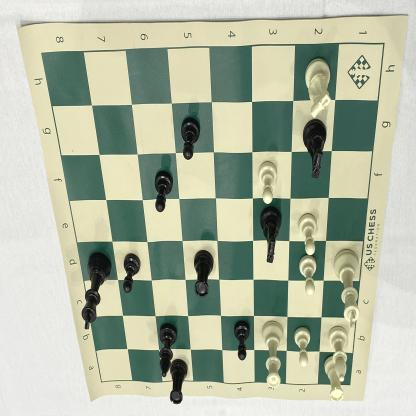black-bishop: (154, 320, 180, 378)
black-king: (78, 251, 114, 334)
black-knight: (299, 116, 330, 185), (256, 200, 284, 269)
black-pawn: (176, 113, 202, 166), (152, 166, 176, 218), (233, 315, 254, 363), (121, 250, 142, 298)
black-rook: (190, 245, 216, 302), (167, 356, 190, 410)
white-bishop: (326, 325, 352, 383)
white-king: (331, 246, 363, 332)
white-knight: (300, 52, 336, 122)
white-pawn: (289, 322, 314, 372), (295, 209, 320, 258), (255, 158, 280, 206), (296, 252, 320, 299)
white-queen: (257, 316, 287, 392)
white-rook: (320, 352, 347, 405)
